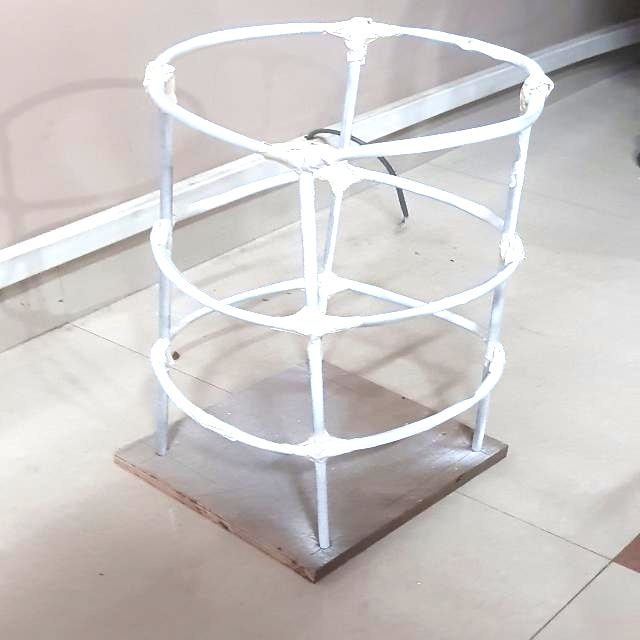silo: (126, 15, 511, 543)
